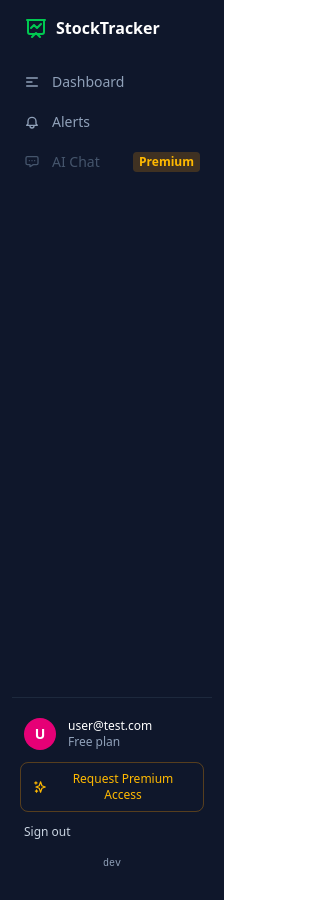
Test: Sidebar › premium request › hides confirm dialog when Cancel clicked
Click the button "Request Premium Access" at (112, 787), box [20, 762, 204, 812]
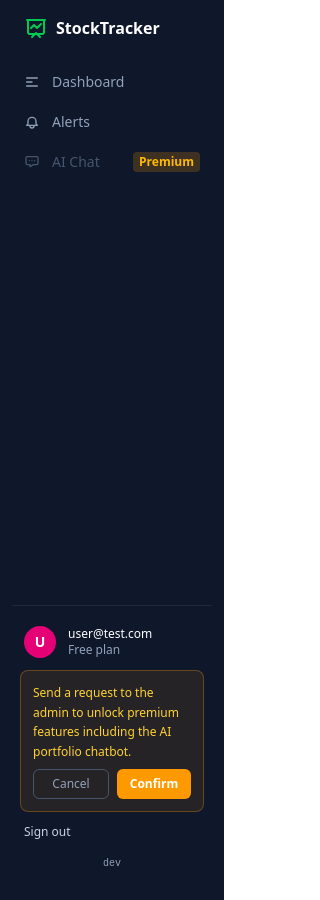
Click the button "Cancel" at (71, 784), box [33, 769, 109, 799]
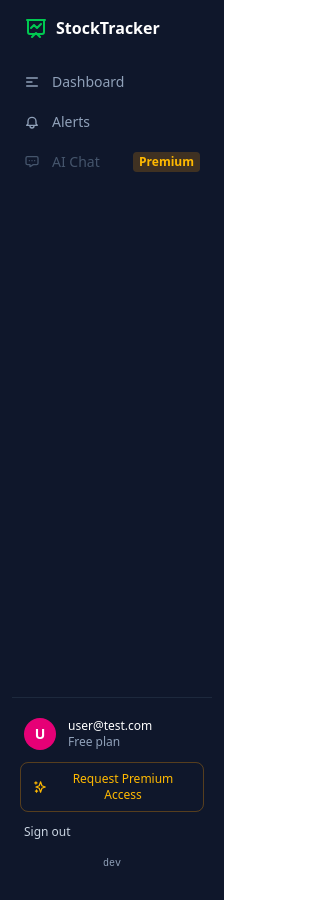
Expected: the button "Confirm" is gone
Expected: the button "Request Premium Access" is shown, [20, 762, 204, 812]
